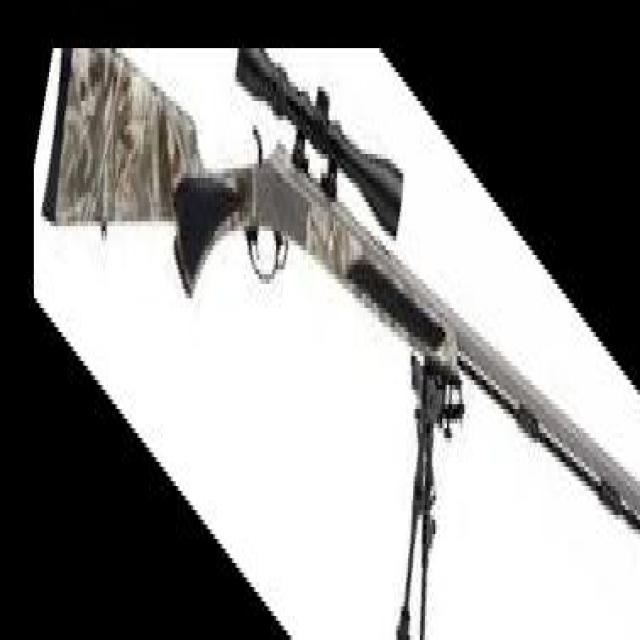weapon: (38, 50, 640, 640)
